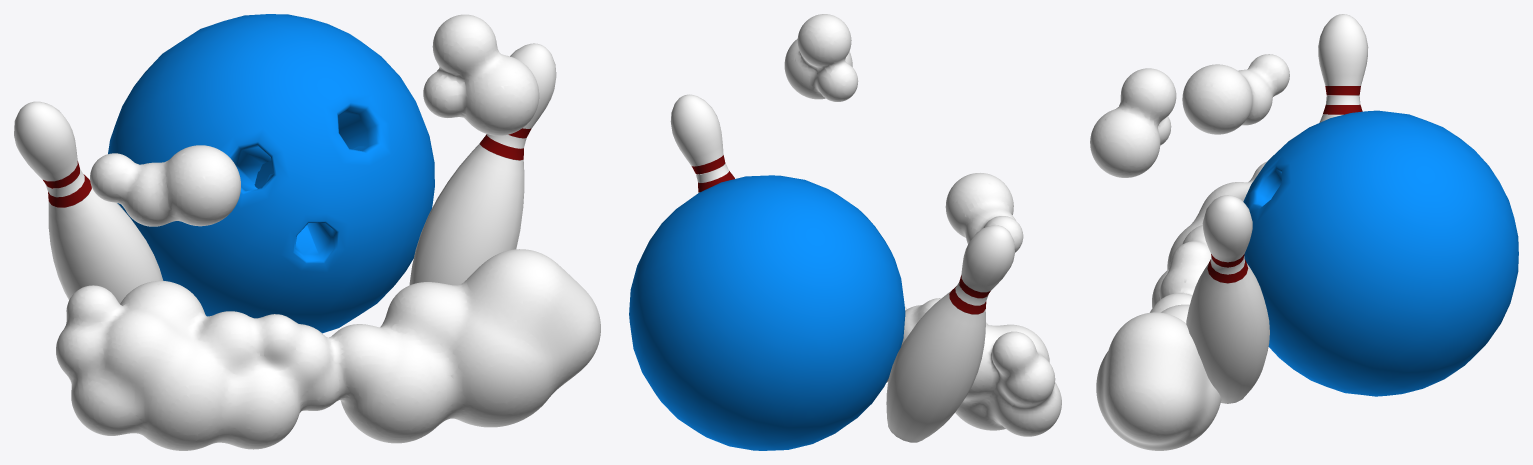
Rendered from cloudBowl.glb.
The picture shows the model from 3 angles, left to right: view 1: azimuth 30°, elevation 25°; view 2: azimuth 150°, elevation 25°; view 3: azimuth 270°, elevation 25°; orthographic projection. The views are drawn at different scales.
Visible parts, largest first — view 1: Bowling_ball014_Material #4302_0; view 2: Bowling_ball014_Material #4302_0; view 3: Bowling_ball014_Material #4302_0.
Part boxes in pixels (x1,y1,x2,y2): Bowling_ball014_Material #4302_0: [14, 14, 600, 450]; Bowling_ball014_Material #4302_0: [629, 14, 1061, 450]; Bowling_ball014_Material #4302_0: [1090, 14, 1518, 450].
Bounding box in the file's own units: 28.15 × 23.81 × 25.56.
